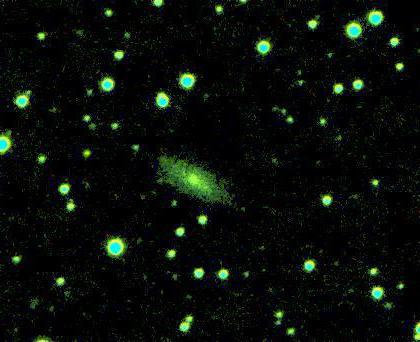star: (74, 141, 104, 171)
